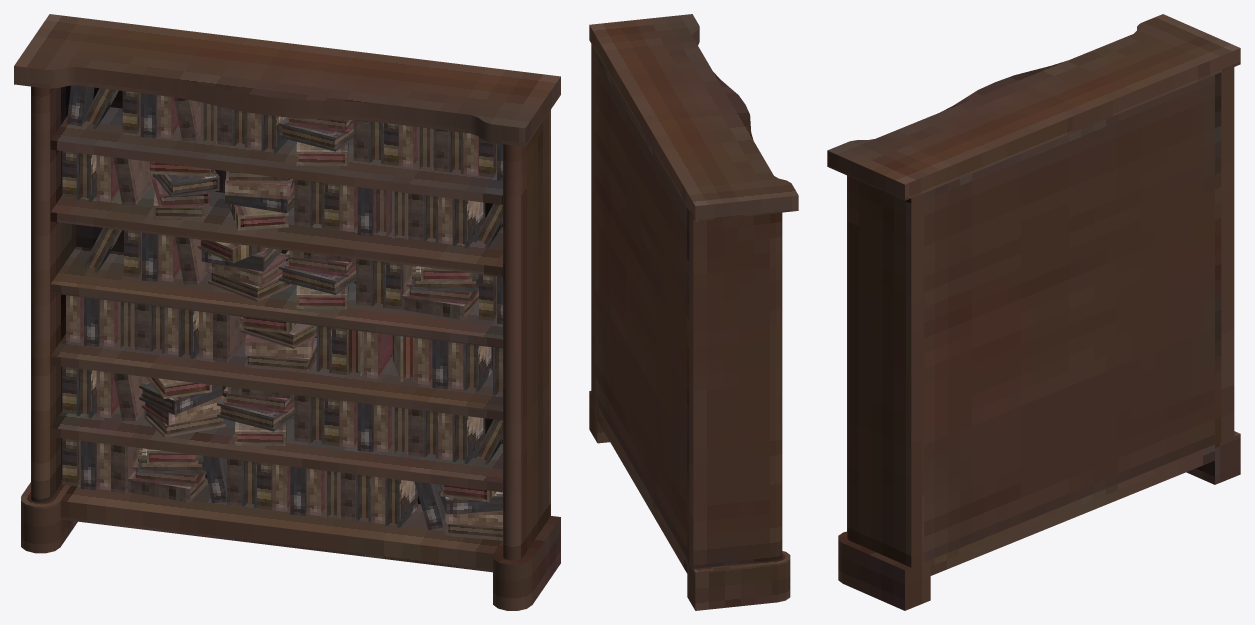
Rendered from bookshelf-04131aa6.glb.
3 renders of one model, left to right at view 1: azimuth 30°, elevation 25°; view 2: azimuth 150°, elevation 25°; view 3: azimuth 270°, elevation 25°, orthographic. The views are drawn at different scales.
Visible parts, largest first — view 1: Cylinder005_bookshelf_0, Object001_books_0; view 2: Cylinder005_bookshelf_0; view 3: Cylinder005_bookshelf_0.
Boxes of the visible parts, x1,y1,x2,y2 form: Cylinder005_bookshelf_0: (14, 14, 560, 610); Object001_books_0: (62, 85, 502, 540); Cylinder005_bookshelf_0: (589, 14, 798, 610); Cylinder005_bookshelf_0: (827, 14, 1240, 610).
Bounding box in the file's own units: 2.17 × 2.53 × 2.22.
Materials: 2 (2 with a texture image).
